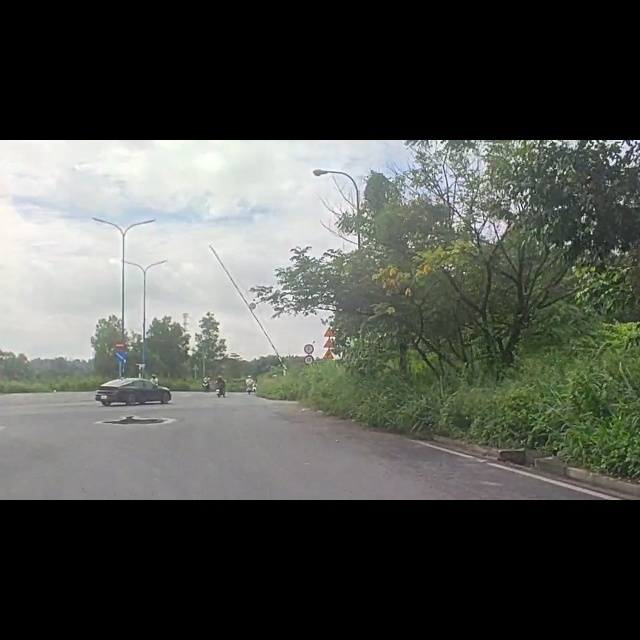bien_chi_dan: (321, 370, 337, 391), (114, 375, 127, 397), (115, 354, 127, 376), (303, 380, 315, 401)
